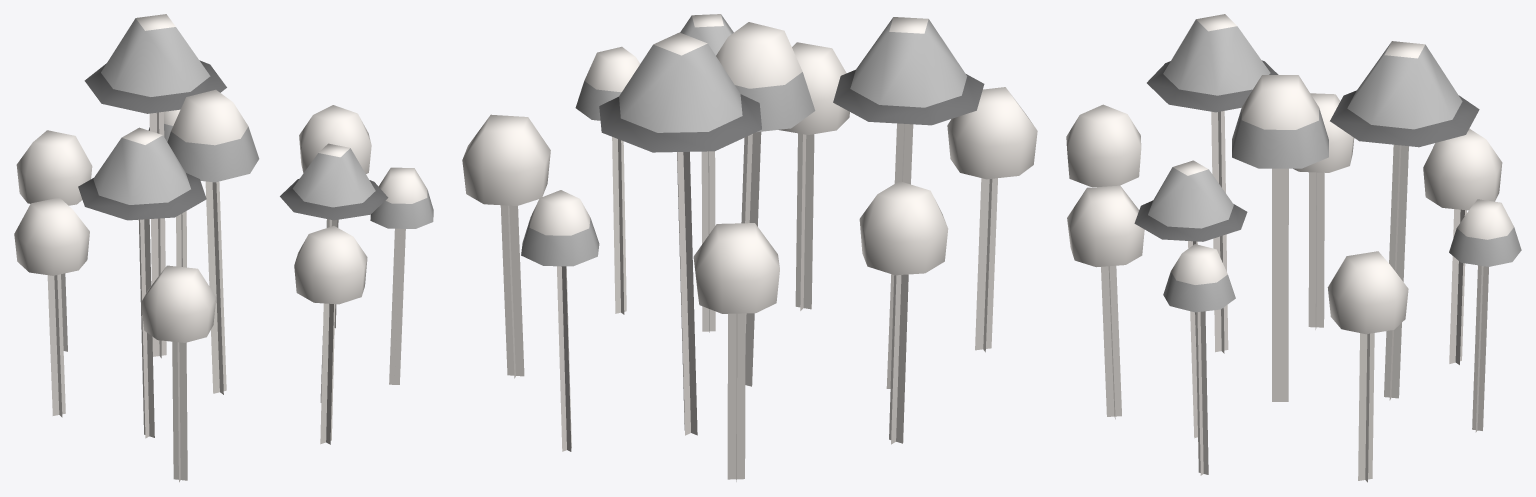
The model's file is White_Mushrooms_Cluster_3.fbx.
The picture shows the model from 3 angles, left to right: view 1: azimuth 30°, elevation 25°; view 2: azimuth 150°, elevation 25°; view 3: azimuth 270°, elevation 25°; orthographic projection. The views are drawn at different scales.
Parts seen in each view (by area): view 1: White_Mushrooms_Cluster_3; view 2: White_Mushrooms_Cluster_3; view 3: White_Mushrooms_Cluster_3.
Part boxes in pixels (x1,y1,x2,y2): White_Mushrooms_Cluster_3: [14, 14, 433, 482]; White_Mushrooms_Cluster_3: [462, 14, 1037, 481]; White_Mushrooms_Cluster_3: [1066, 14, 1521, 482].
Size of the model in its own units: 24.48 by 20.68 by 24.43.
Materials: 1 (1 with a texture image).
